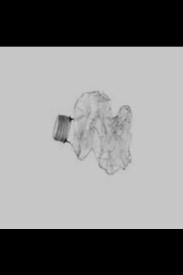Plastic: (39, 83, 144, 175)
